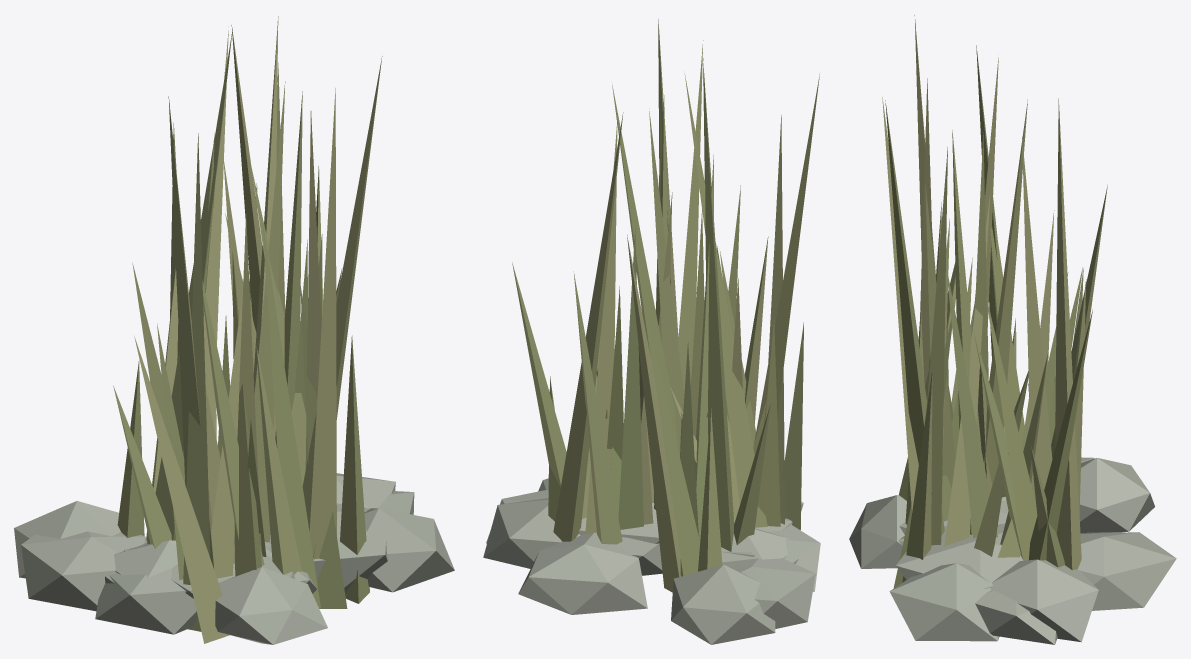
The model's file is plants.glb.
3 renders of one model, left to right at view 1: azimuth 30°, elevation 25°; view 2: azimuth 150°, elevation 25°; view 3: azimuth 270°, elevation 25°, orthographic. The views are drawn at different scales.
Visible parts, largest first — view 1: TallGrass2, TallGrass1, Lichen0, TallGrass0, Grass2, Lichen2, Grass0, Grass1, Grass3, Lichen1; view 2: TallGrass2, TallGrass1, TallGrass0, Lichen2, Grass2, Lichen0, Lichen1, Grass0, Grass1, Grass3; view 3: TallGrass2, Lichen0, TallGrass0, Lichen2, TallGrass1, Grass2, Lichen1, Grass1, Grass0, Grass3.
Part boxes in pixels (box(x1,y1,x2,y2)): TallGrass2: box(168, 25, 382, 576); TallGrass1: box(147, 16, 321, 608); Lichen0: box(21, 473, 454, 644); TallGrass0: box(183, 62, 307, 631); Grass2: box(113, 166, 369, 608); Lichen2: box(95, 491, 414, 634); Grass0: box(132, 213, 275, 643); Grass1: box(247, 183, 301, 574); Grass3: box(117, 315, 234, 563); Lichen1: box(14, 501, 318, 593); TallGrass2: box(553, 19, 819, 592); TallGrass1: box(612, 58, 780, 551); TallGrass0: box(585, 95, 784, 534); Lichen2: box(486, 490, 820, 614); Grass2: box(512, 263, 770, 575); Lichen0: box(483, 478, 815, 628); Lichen1: box(617, 537, 775, 644); Grass0: box(596, 286, 803, 536); Grass1: box(548, 271, 766, 544); Grass3: box(641, 278, 742, 576); TallGrass2: box(882, 15, 1107, 570); Lichen0: box(849, 457, 1098, 642); TallGrass0: box(920, 78, 1054, 538); Lichen2: box(896, 496, 1176, 644); TallGrass1: box(926, 45, 1027, 545); Grass2: box(893, 268, 1092, 587); Lichen1: box(899, 458, 1154, 546); Grass1: box(905, 279, 1086, 567); Grass0: box(948, 267, 1082, 556); Grass3: box(952, 305, 1055, 497).
Bounding box in the file's own units: 0.8615 × 1.34 × 0.735.
